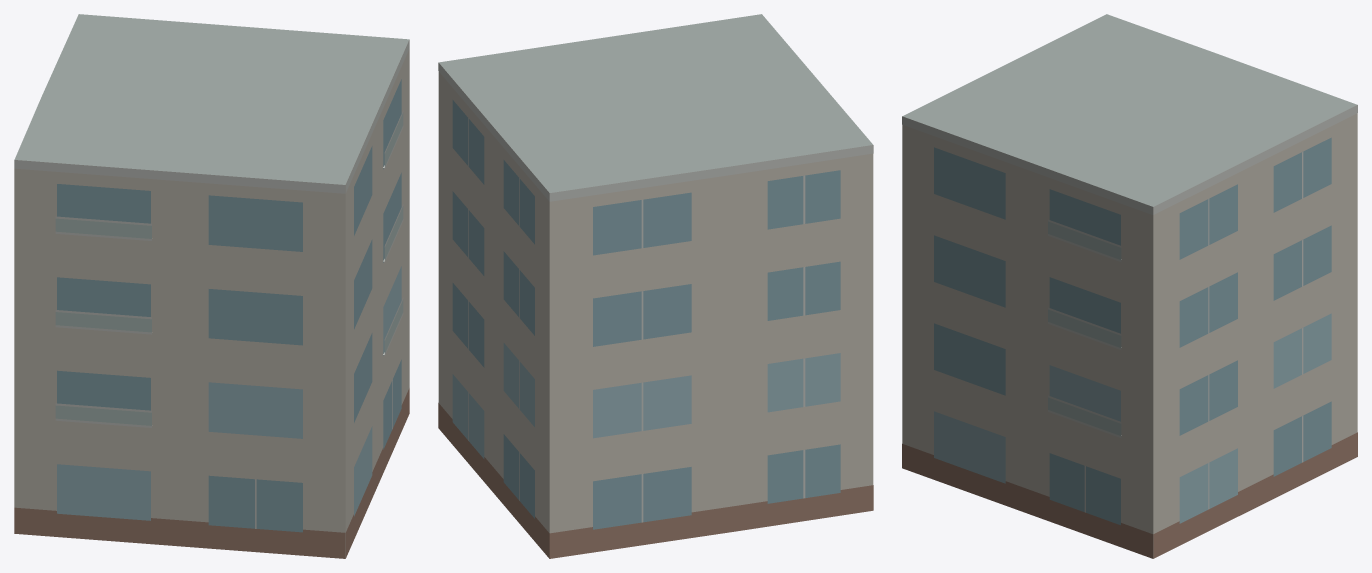
Rendered from survey-upis-32920600.glb.
3 views of the same model, side by side, from view 1: azimuth 30°, elevation 25°; view 2: azimuth 150°, elevation 25°; view 3: azimuth 270°, elevation 25° (orthographic). The views are drawn at different scales.
Parts seen in each view (by area): view 1: survey-upis-32920600.tmp; view 2: survey-upis-32920600.tmp; view 3: survey-upis-32920600.tmp.
Part boxes in pixels (x1,y1,x2,y2): survey-upis-32920600.tmp: (14,14,409,558); survey-upis-32920600.tmp: (438,14,873,558); survey-upis-32920600.tmp: (902,14,1357,558).
Bounding box in the file's own units: 12.17 × 10.35 × 12.15.
